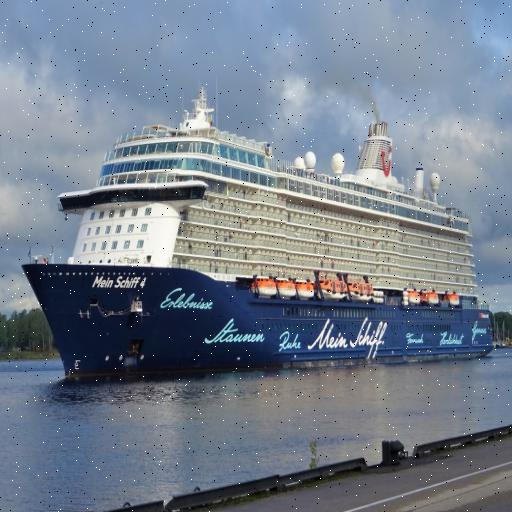cruises: (19, 87, 498, 384)
